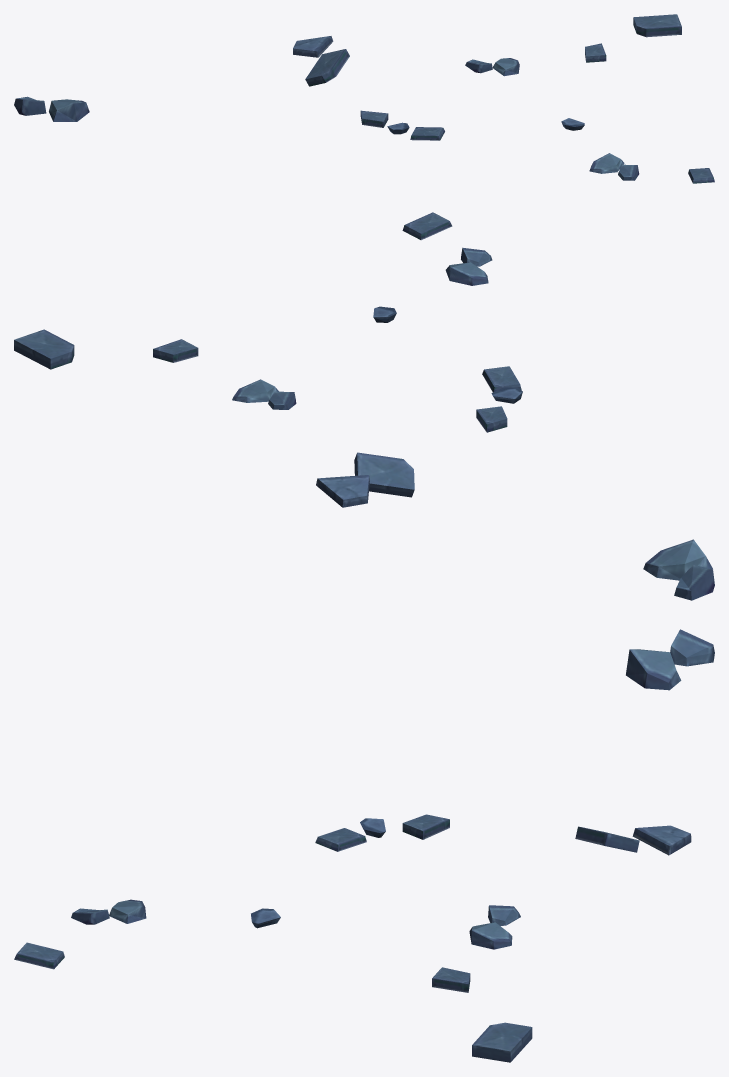
The model's file is Area12_34.fbx.
3 views of the same model, one above another, from view 1: azimuth 30°, elevation 25°; view 2: azimuth 150°, elevation 25°; view 3: azimuth 270°, elevation 25° (orthographic). The views are drawn at different scales.
Visible parts, largest first — view 1: Area12_34; view 2: Area12_34; view 3: Area12_34.
Boxes of the visible parts, x1,y1,x2,y2 form: Area12_34: (14,14,714,183); Area12_34: (14,212,714,600); Area12_34: (14,629,714,1062).
Size of the model in its own units: 3097 by 152 by 2275.
1 material, 1 textured.
